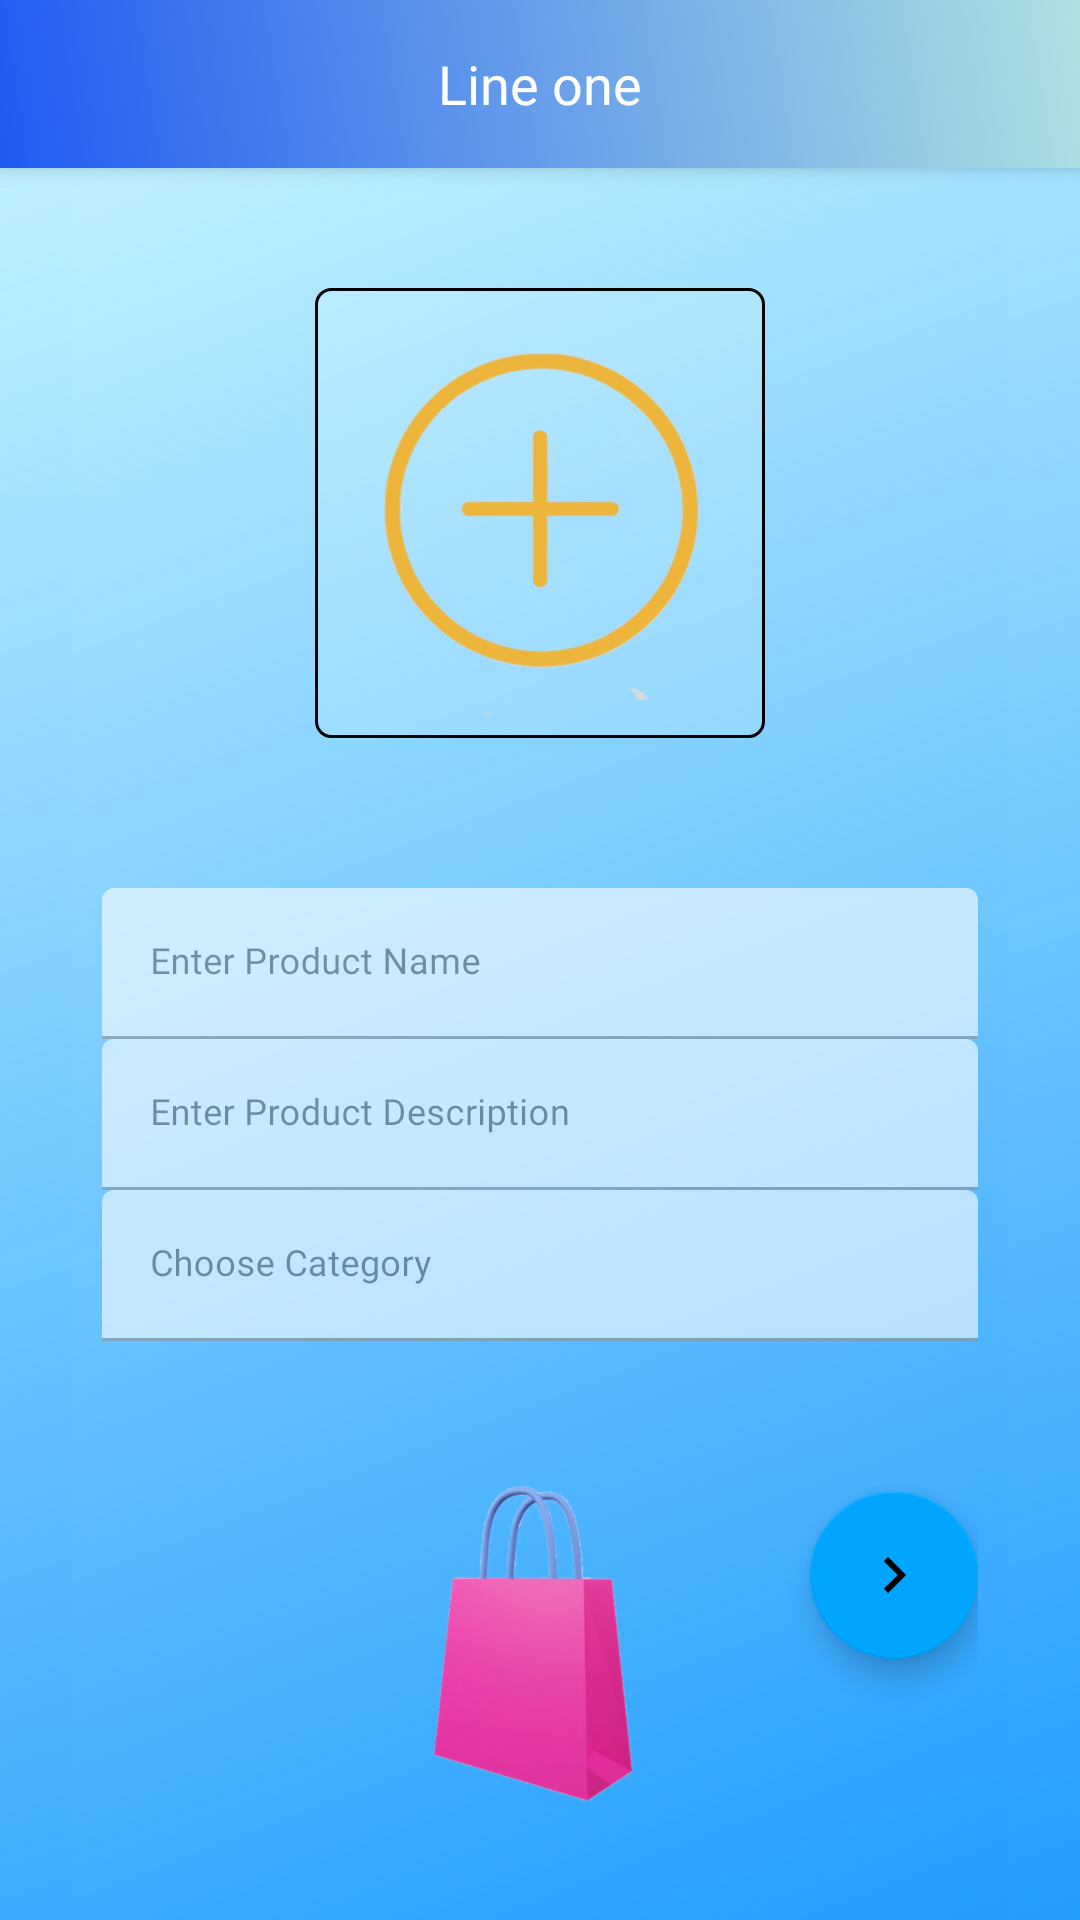

Named icons in this screenshot (1080*1920) and their centers, (x=x, y=y):
next: (x=894, y=1575)
